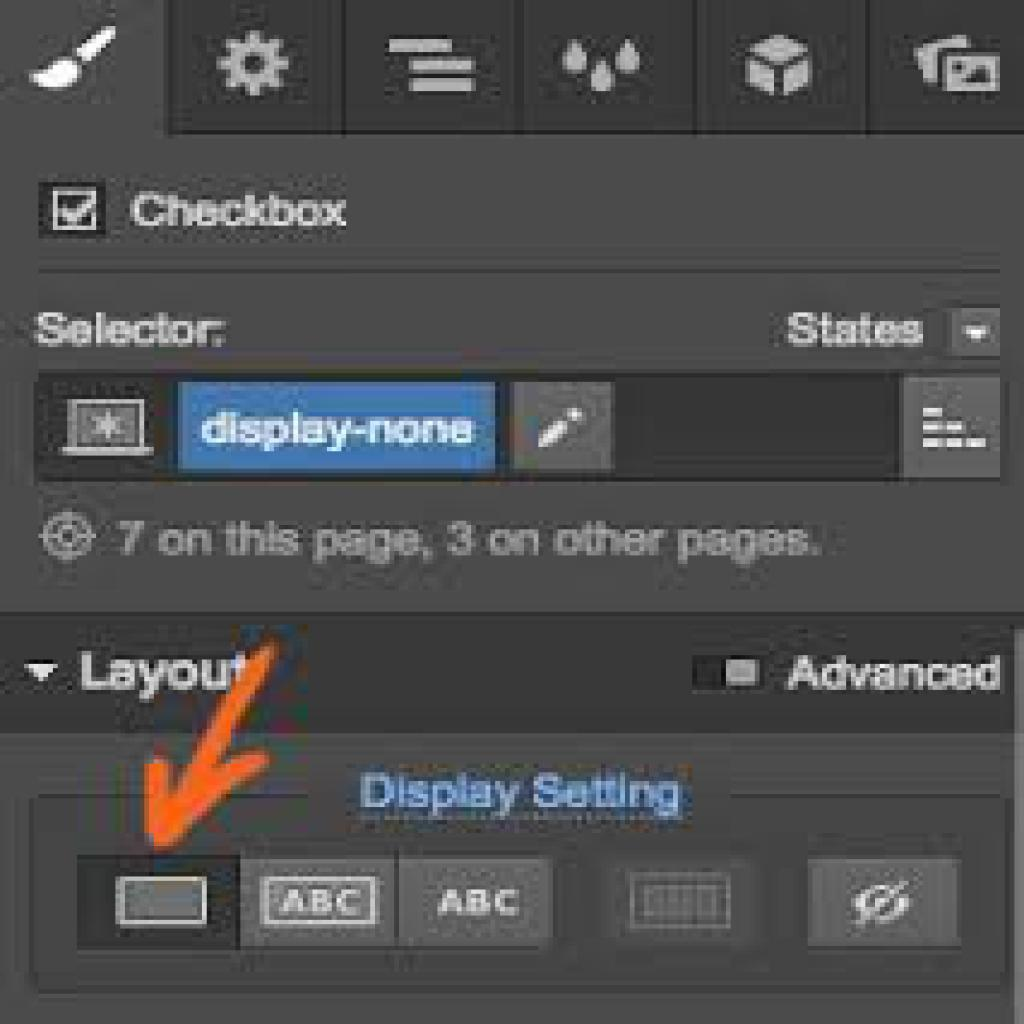checkbox: (38, 183, 105, 238)
icon: (908, 22, 1008, 102), (384, 31, 484, 101), (554, 34, 654, 103), (738, 28, 820, 107), (65, 392, 158, 460), (31, 27, 119, 97), (220, 30, 294, 107), (837, 874, 923, 939), (911, 398, 992, 462), (531, 400, 596, 456), (948, 308, 1001, 360)
switch: (692, 654, 767, 694)
